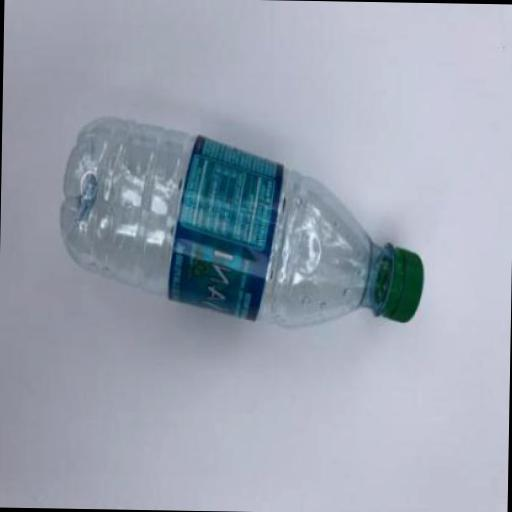plastic: (58, 114, 429, 328), (168, 132, 286, 322), (372, 242, 426, 323)
